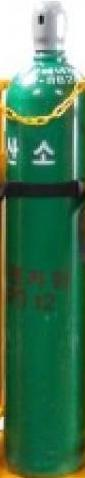cylinder: (1, 1, 85, 478)
